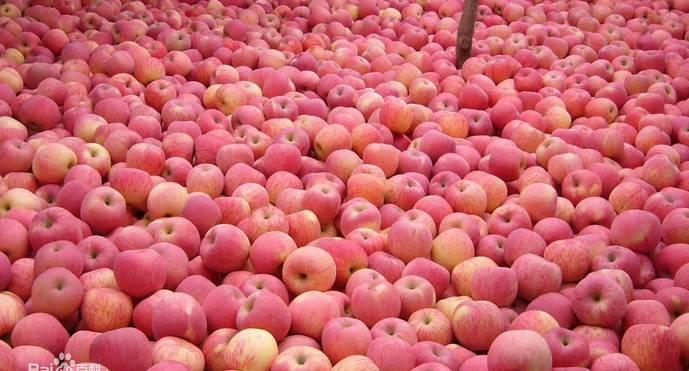apple: (571, 272, 628, 328), (86, 324, 155, 368), (29, 268, 83, 323), (451, 300, 507, 351), (280, 247, 337, 297), (235, 288, 291, 337), (153, 291, 207, 341), (487, 328, 553, 368), (622, 322, 678, 368), (612, 206, 663, 256), (200, 223, 251, 272), (80, 186, 131, 235), (12, 311, 69, 354), (113, 248, 166, 294), (288, 290, 340, 336), (350, 279, 402, 324), (247, 228, 298, 272), (513, 252, 564, 295), (222, 328, 278, 366), (403, 257, 452, 300), (545, 237, 591, 282), (151, 214, 199, 257), (84, 289, 134, 329), (28, 206, 80, 243), (471, 264, 519, 304), (323, 315, 372, 354), (387, 220, 433, 260), (150, 334, 205, 367), (203, 284, 246, 326), (431, 228, 474, 268), (409, 308, 453, 347), (151, 242, 189, 286), (33, 240, 85, 272), (32, 143, 73, 183), (367, 336, 416, 368), (298, 182, 341, 218), (518, 181, 558, 217), (339, 198, 380, 231), (627, 298, 671, 325), (187, 163, 225, 194), (3, 218, 31, 259)
